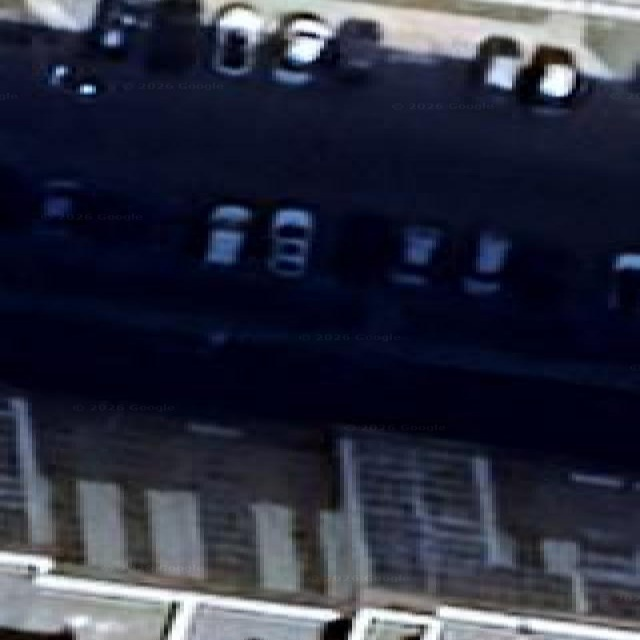car: (518, 46, 585, 107), (273, 14, 331, 84), (212, 4, 262, 75), (391, 224, 445, 285), (462, 230, 511, 295), (268, 208, 312, 277), (473, 36, 523, 93), (205, 204, 251, 265), (336, 18, 381, 78), (608, 253, 639, 314)
